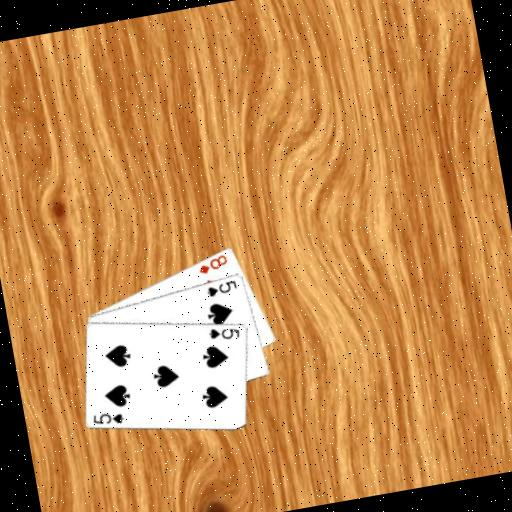5S: (89, 407, 126, 430), (205, 321, 241, 344), (203, 276, 240, 298)
8D: (193, 251, 230, 277)
